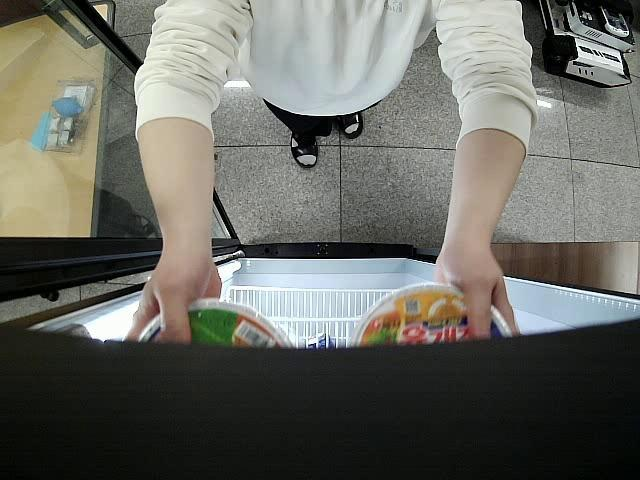09_yukGaeJang: (348, 282, 514, 349), (140, 300, 296, 354)
